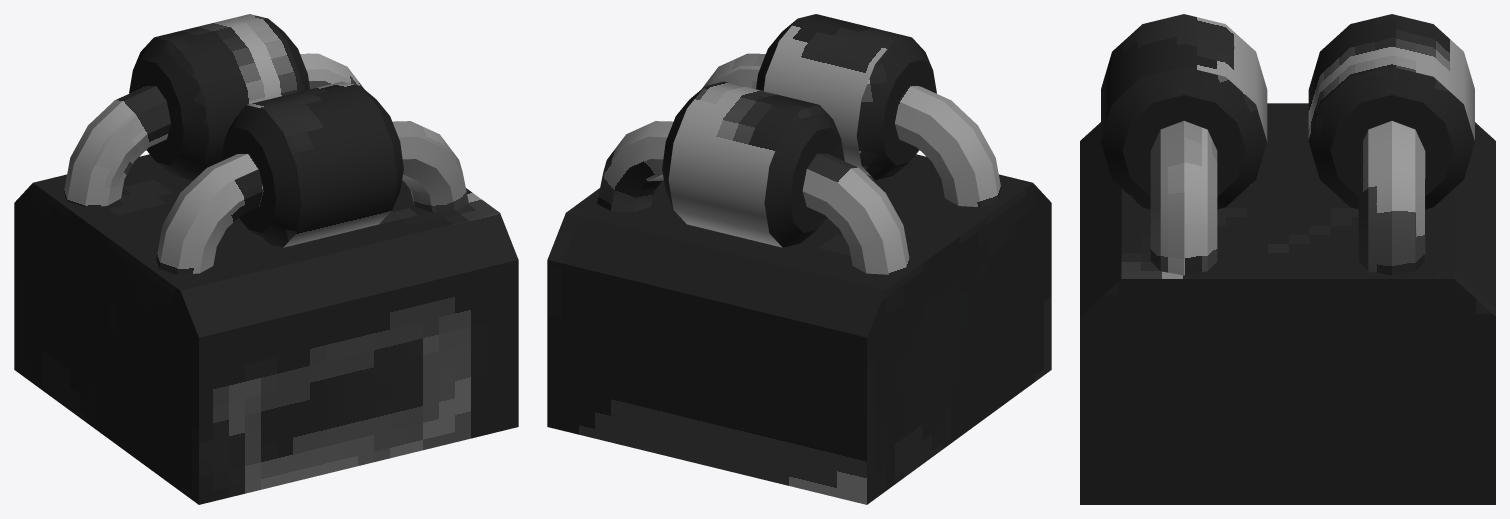
File: WallB.glb
3 renders of one model, left to right at view 1: azimuth 30°, elevation 25°; view 2: azimuth 150°, elevation 25°; view 3: azimuth 270°, elevation 25°, orthographic. The views are drawn at different scales.
Visible parts, largest first — view 1: WallB; view 2: WallB; view 3: WallB.
Boxes of the visible parts, bbox=[...] form: WallB: bbox=[14, 14, 518, 504]; WallB: bbox=[547, 14, 1051, 504]; WallB: bbox=[1080, 14, 1495, 504].
Size of the model in its own units: 1 by 1 by 1.
Materials: 1 (1 with a texture image).
